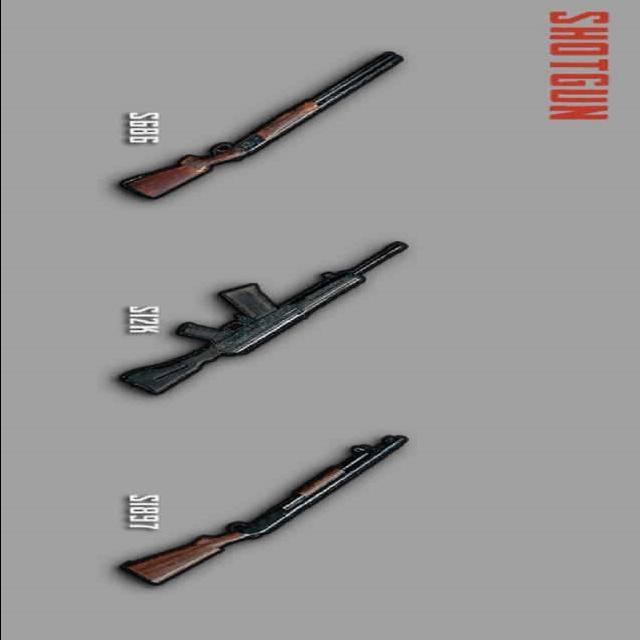rifle: (112, 240, 421, 397)
shotgun: (112, 429, 415, 590), (101, 50, 409, 202)
